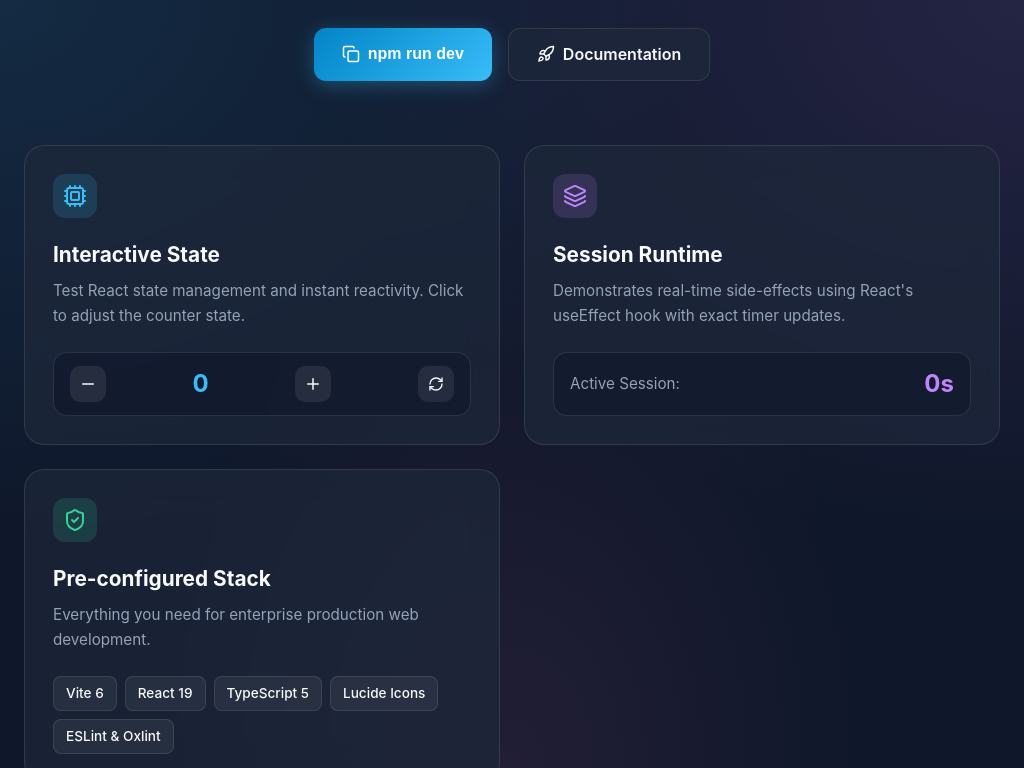
Test: App Component › decrements counter state when decrement button is clicked
The width and height of the screenshot is (1024, 768).
(page scrolled)
Click the button named "decrement": (88, 384) [70,366,106,402]
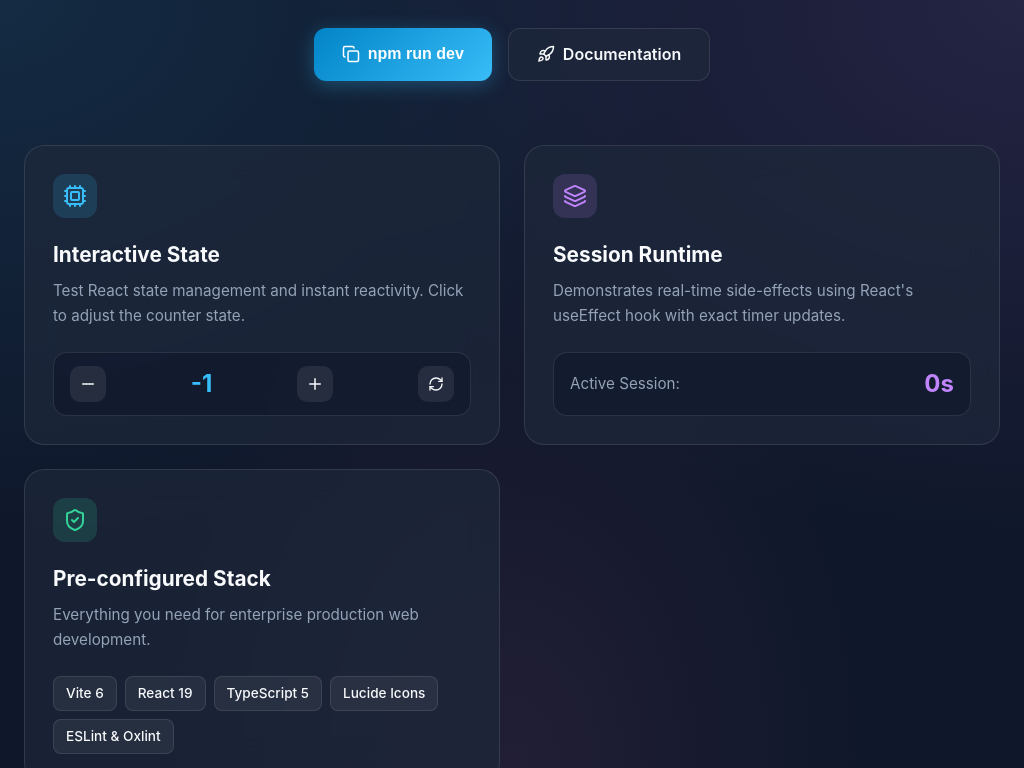
Check: the text "-1" is shown, box [191,365,212,403]
